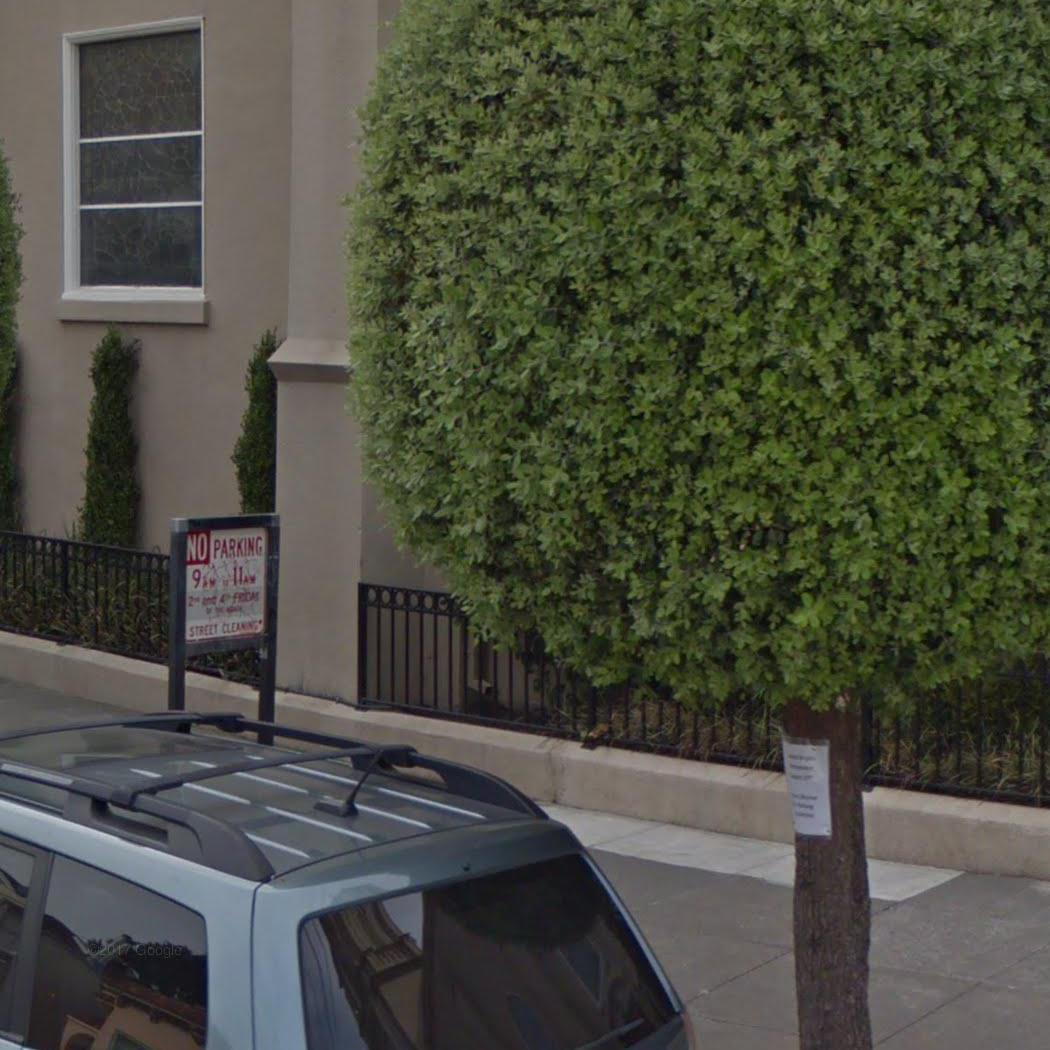No Parking: (179, 526, 274, 637)
